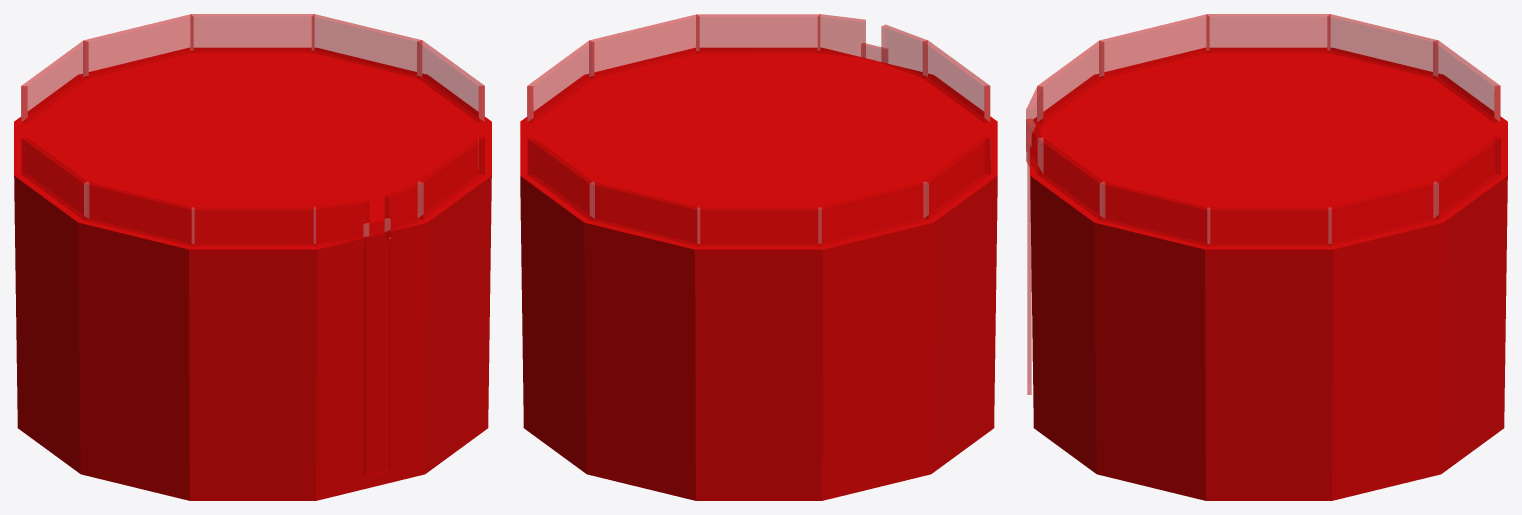
File: SM_Bld_WaterTank_01_Collision.fbx
3 views of the same model, side by side, from view 1: azimuth 30°, elevation 25°; view 2: azimuth 150°, elevation 25°; view 3: azimuth 270°, elevation 25° (orthographic).
Visible parts, largest first — view 1: SM_Bld_WaterTank_01_Collision; view 2: SM_Bld_WaterTank_01_Collision; view 3: SM_Bld_WaterTank_01_Collision.
Boxes of the visible parts, x1,y1,x2,y2 form: SM_Bld_WaterTank_01_Collision: (14, 14, 491, 500); SM_Bld_WaterTank_01_Collision: (520, 14, 997, 500); SM_Bld_WaterTank_01_Collision: (1026, 14, 1507, 500).
Size of the model in its own units: 822 by 550 by 829.
